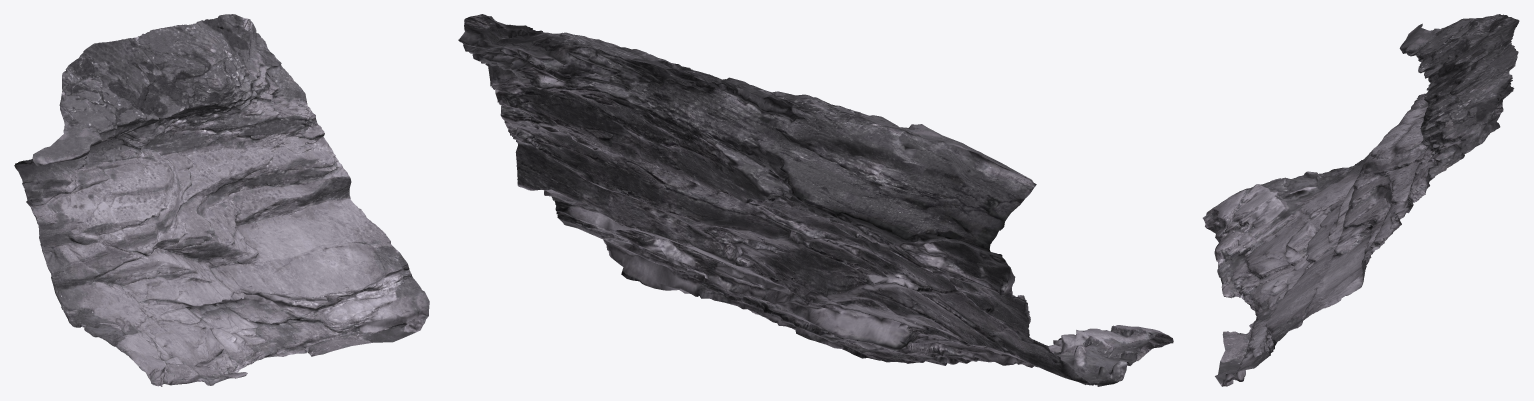
The model's file is rock_face_01.gltf.
The picture shows the model from 3 angles, left to right: view 1: azimuth 30°, elevation 25°; view 2: azimuth 150°, elevation 25°; view 3: azimuth 270°, elevation 25°; orthographic projection. The views are drawn at different scales.
Visible parts, largest first — view 1: rock_face_01; view 2: rock_face_01; view 3: rock_face_01.
Part boxes in pixels (x1,y1,x2,y2): rock_face_01: (14,14,429,386); rock_face_01: (458,14,1173,386); rock_face_01: (1202,14,1519,386).
Size of the model in its own units: 4.95 by 3.56 by 3.83.
Materials: 1 (1 with a texture image).
